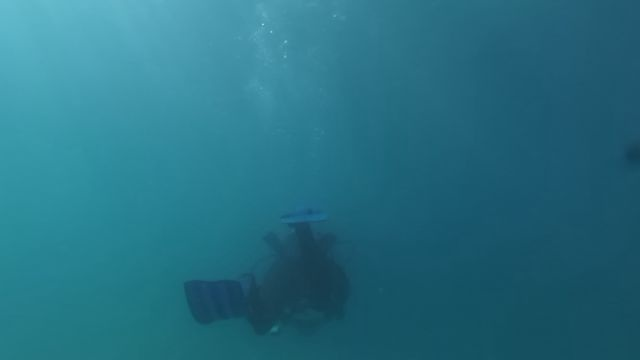Diver: (138, 181, 369, 343)
